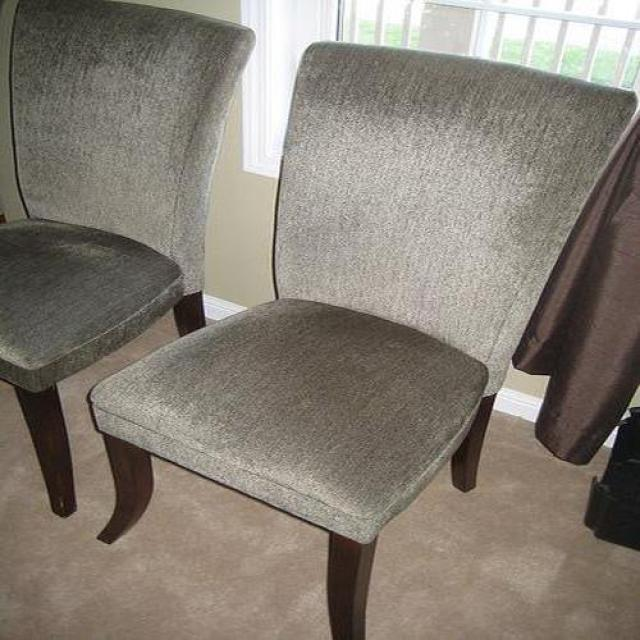chair: (86, 42, 637, 640), (0, 0, 257, 521)
